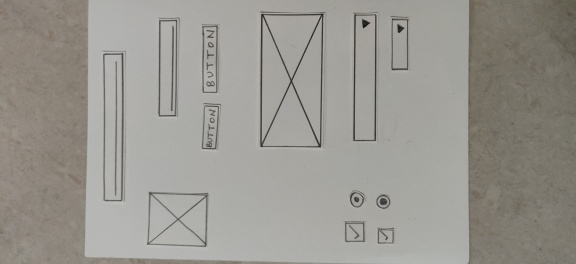button: (200, 22, 221, 96), (199, 102, 222, 152)
checkbox: (343, 219, 368, 244), (375, 225, 396, 246)
dropdown: (350, 10, 380, 144), (389, 15, 411, 72)
img: (257, 10, 326, 150), (144, 188, 211, 249)
radio: (348, 189, 366, 208), (374, 192, 392, 210)
text: (99, 47, 128, 205), (155, 15, 181, 118)
